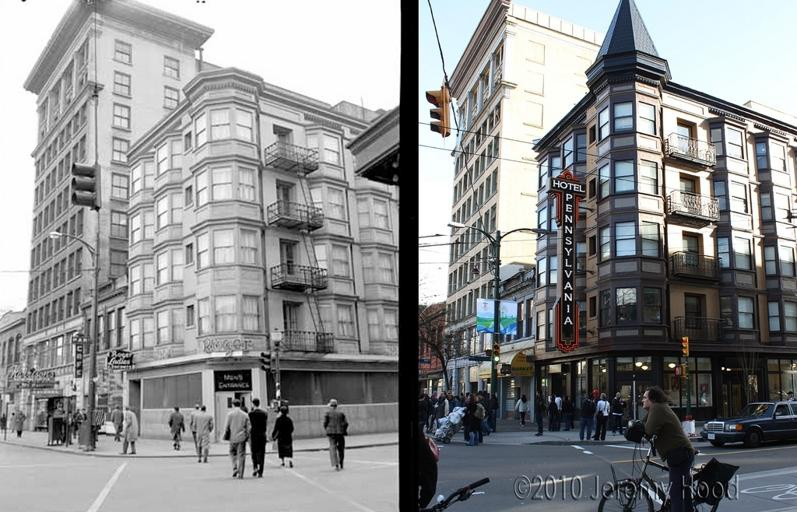non-vehicle: (595, 436, 732, 511), (415, 475, 493, 510)
